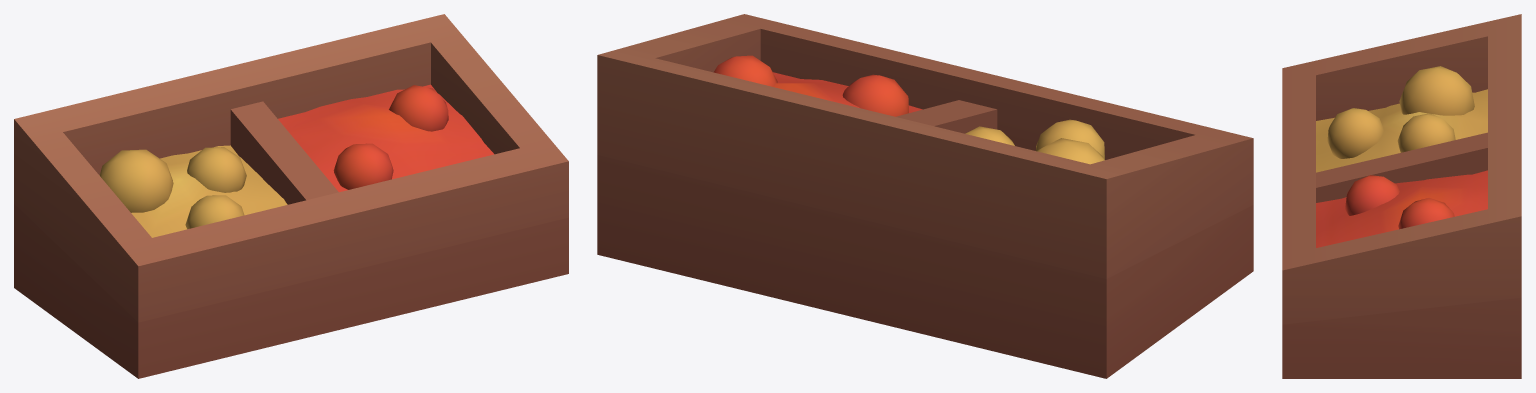
Rendered from d_kaykit_coffre_long.glb.
The picture shows the model from 3 angles, left to right: view 1: azimuth 30°, elevation 25°; view 2: azimuth 150°, elevation 25°; view 3: azimuth 270°, elevation 25°; orthographic projection. The views are drawn at different scales.
Parts seen in each view (by area): view 1: d_kaykit_coffre_long; view 2: d_kaykit_coffre_long; view 3: d_kaykit_coffre_long.
Boxes of the visible parts, box(x1,y1,x2,y2) form: d_kaykit_coffre_long: box(14, 14, 568, 378); d_kaykit_coffre_long: box(597, 14, 1253, 378); d_kaykit_coffre_long: box(1282, 14, 1521, 378).
Size of the model in its own units: 0.4 by 0.15 by 0.2.
1 material, 1 textured.
